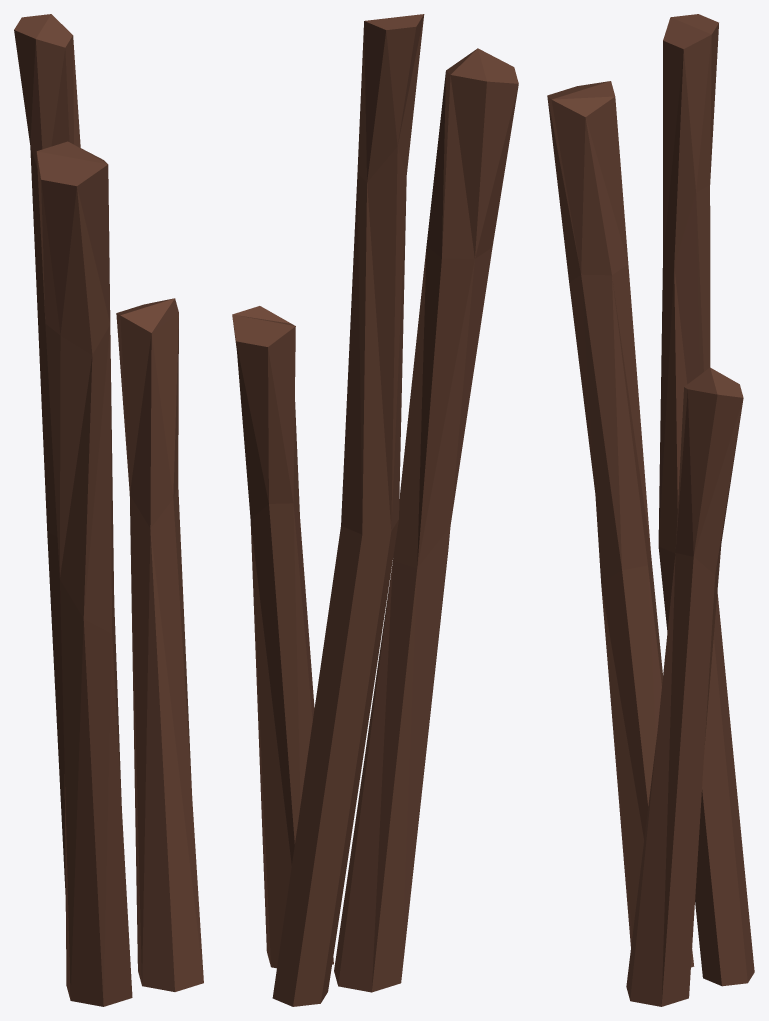
File: Wooden Sticks_1.fbx
3 renders of one model, left to right at view 1: azimuth 30°, elevation 25°; view 2: azimuth 150°, elevation 25°; view 3: azimuth 270°, elevation 25°, orthographic. The views are drawn at different scales.
Visible parts, largest first — view 1: Wooden Sticks_1.001; view 2: Wooden Sticks_1.001; view 3: Wooden Sticks_1.001.
Boxes of the visible parts, left/top/right/bottom form: Wooden Sticks_1.001: left=14, top=14, right=203, bottom=1006; Wooden Sticks_1.001: left=232, top=14, right=518, bottom=1006; Wooden Sticks_1.001: left=547, top=14, right=754, bottom=1006.
Bounding box in the file's own units: 0.3975 × 1.76 × 0.3616.
